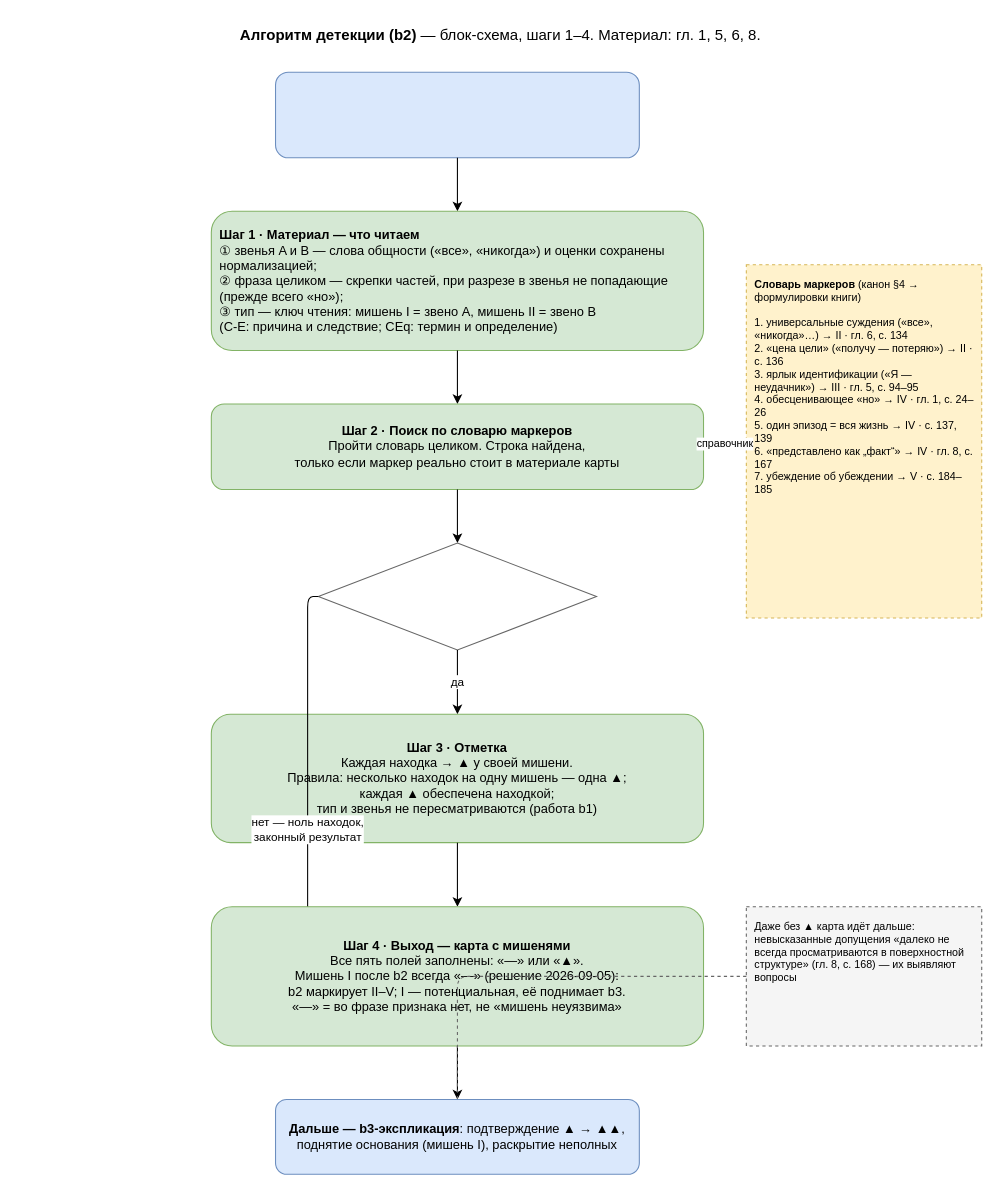
Image size: 1000x1193. Some labels were removed from this diagram. The centre of each missing label's shape, as x and y in pixels:
"Вход — карта после b1: тип · фраза · звенья A и B; мишени I–V исходно «—»" goes at [456,114].
"находки есть?" goes at [457,596].
